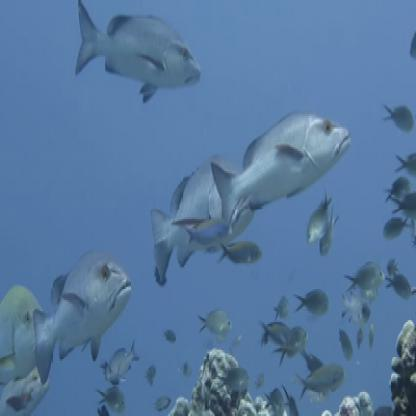Lutjanidae -Snappers-: (209, 109, 345, 257), (30, 229, 139, 388), (77, 5, 205, 110)
